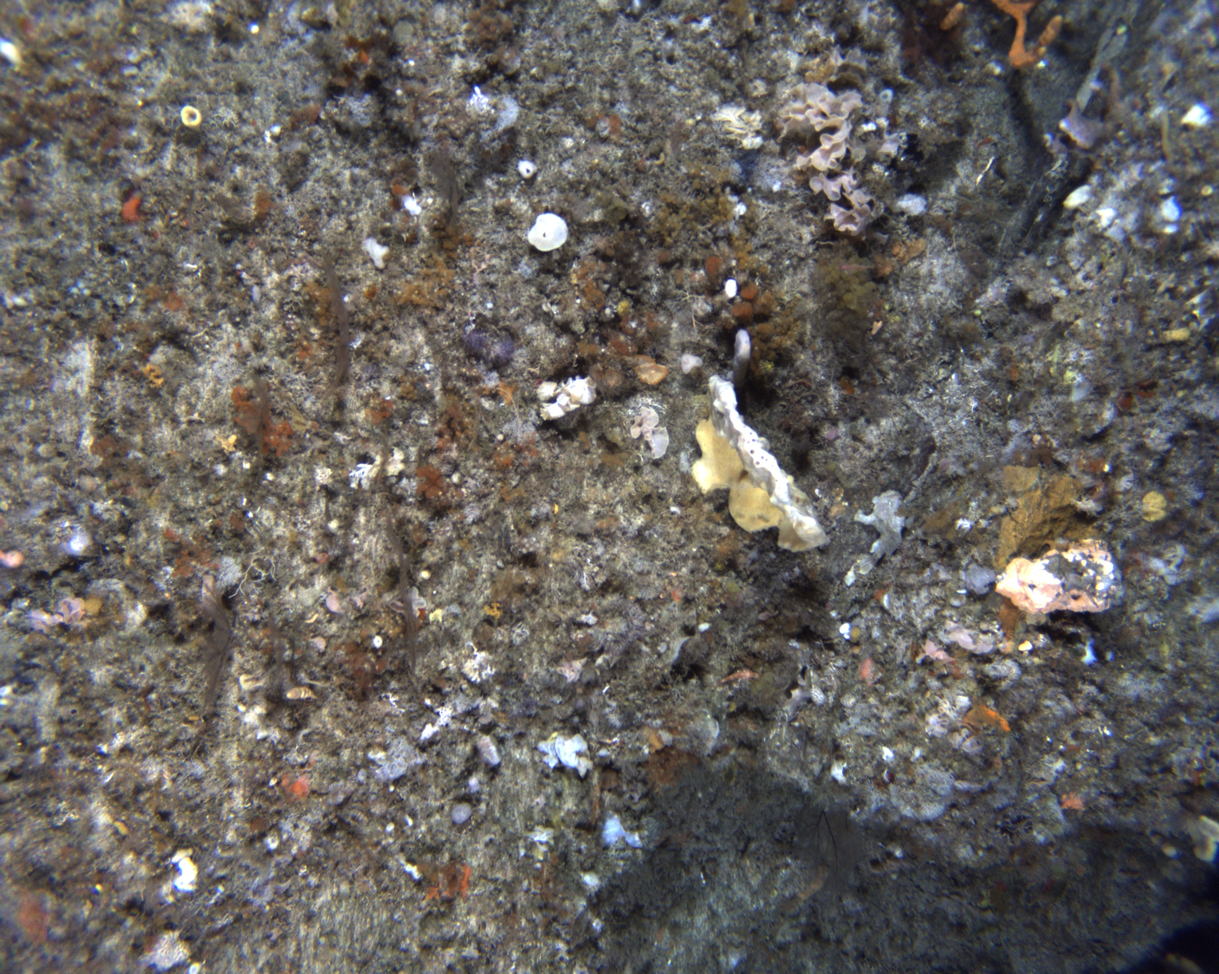Brachionichthyidae: (852, 484, 910, 578)
